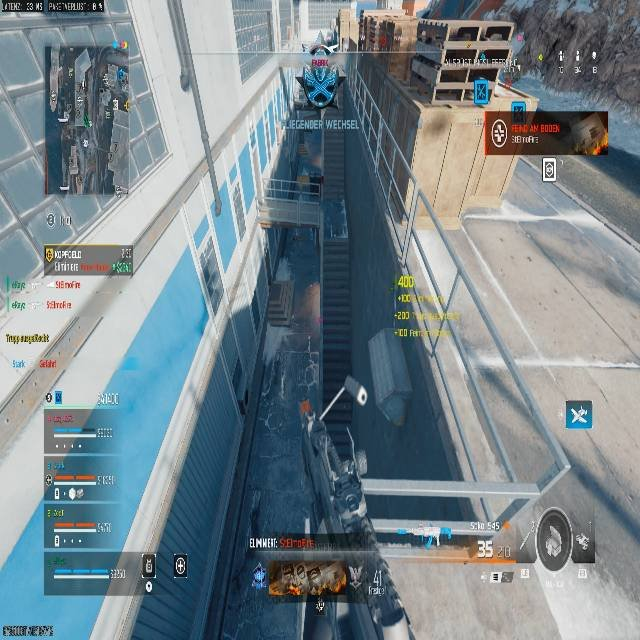player: (296, 28, 344, 111)
